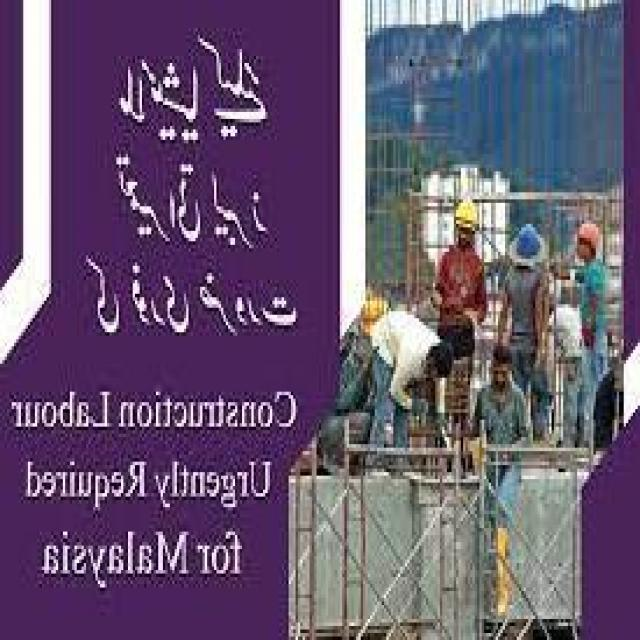Safety-Helmet: (449, 189, 484, 238), (510, 217, 544, 266), (573, 213, 605, 256)
